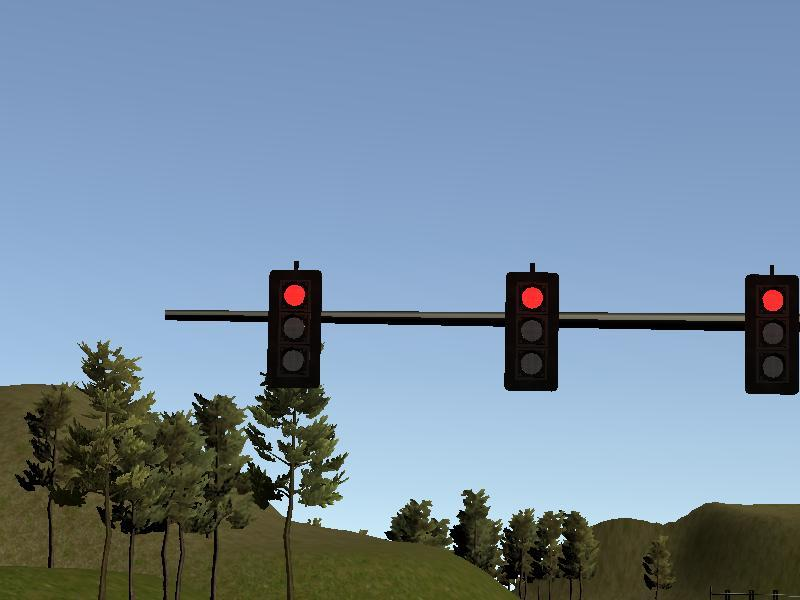Red: (268, 270, 321, 389), (745, 275, 798, 394), (505, 272, 558, 391)
